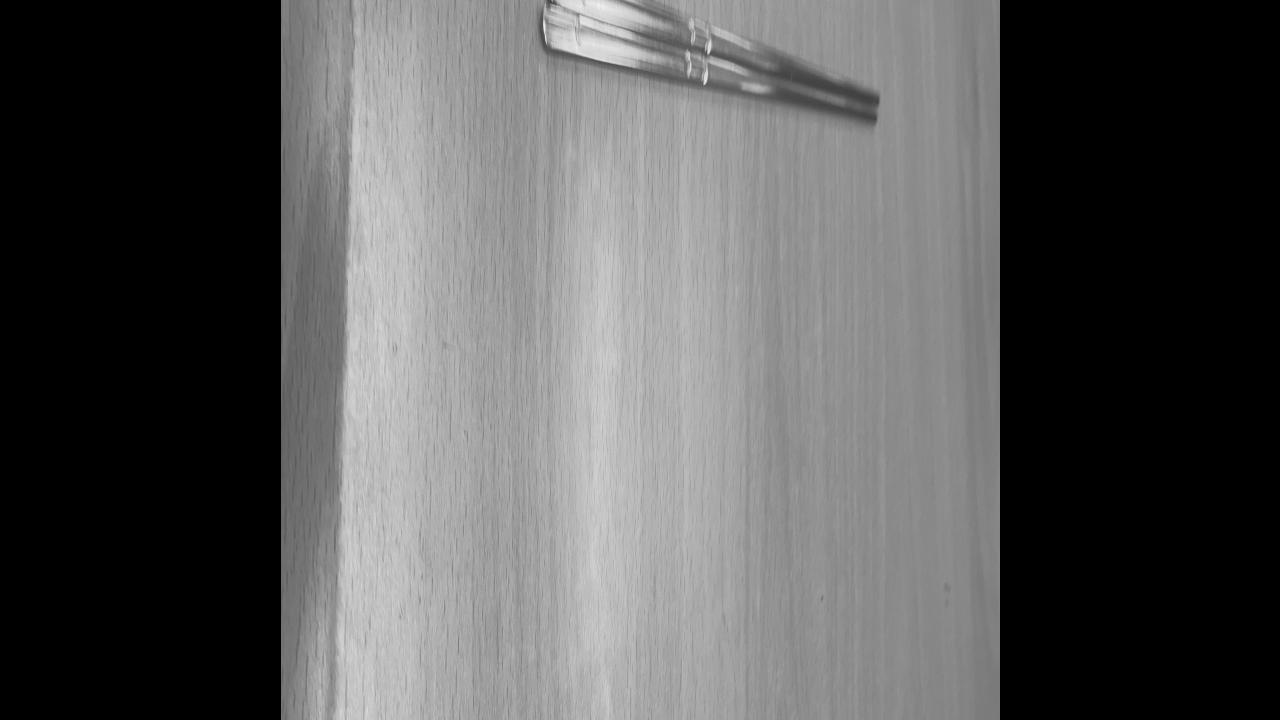chopstick: (544, 0, 880, 122)
